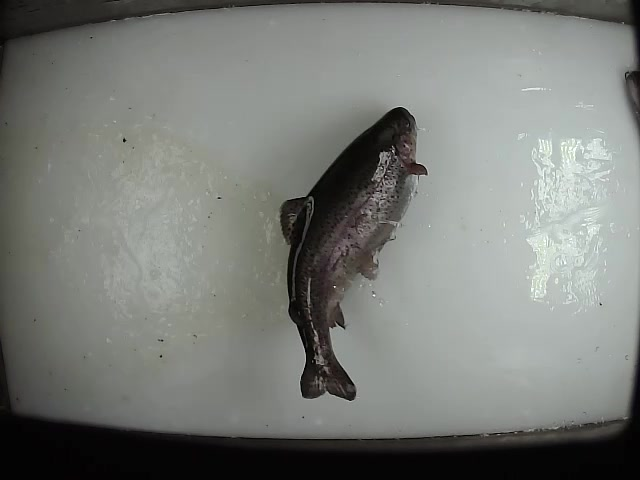fish: (278, 104, 429, 402)
